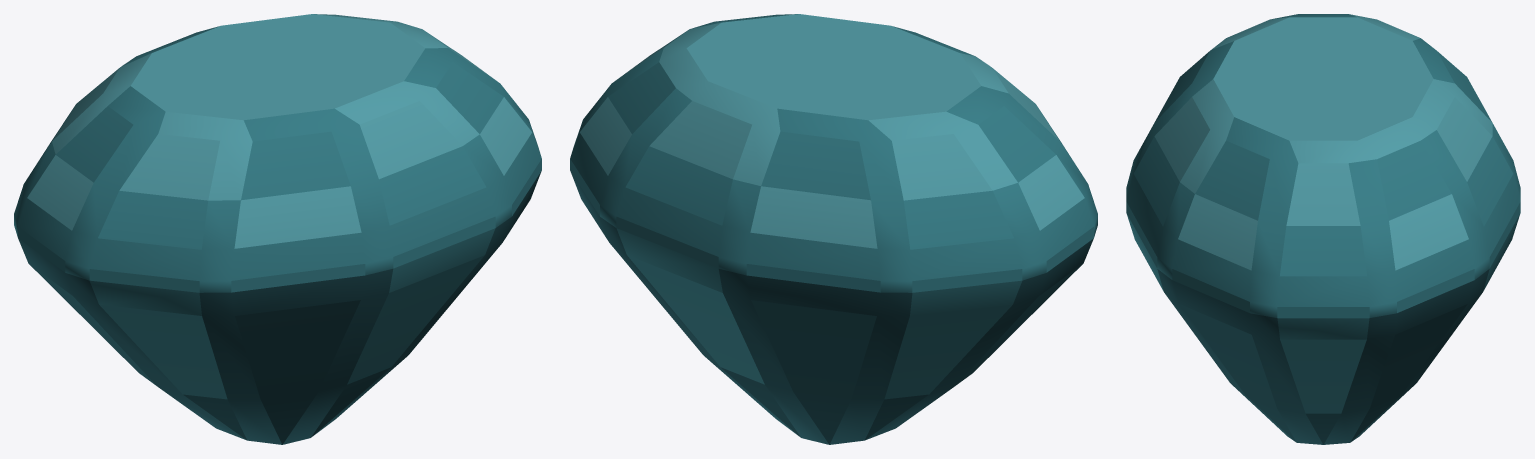
The model's file is Gem_26.glb.
3 renders of one model, left to right at view 1: azimuth 30°, elevation 25°; view 2: azimuth 150°, elevation 25°; view 3: azimuth 270°, elevation 25°, orthographic. The views are drawn at different scales.
Visible parts, largest first — view 1: Gem_26; view 2: Gem_26; view 3: Gem_26.
Boxes of the visible parts, left/top/right/bottom form: Gem_26: left=14, top=14, right=541, bottom=444; Gem_26: left=570, top=14, right=1097, bottom=444; Gem_26: left=1126, top=14, right=1520, bottom=444.
Bounding box in the file's own units: 0.991 × 0.7229 × 0.7366.
